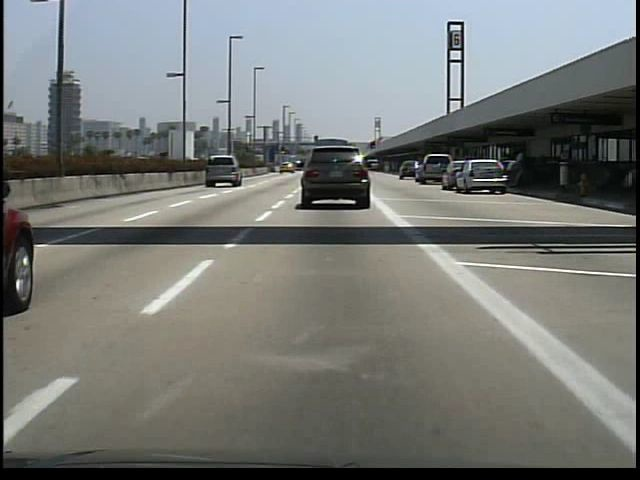person: (510, 149, 534, 191)
